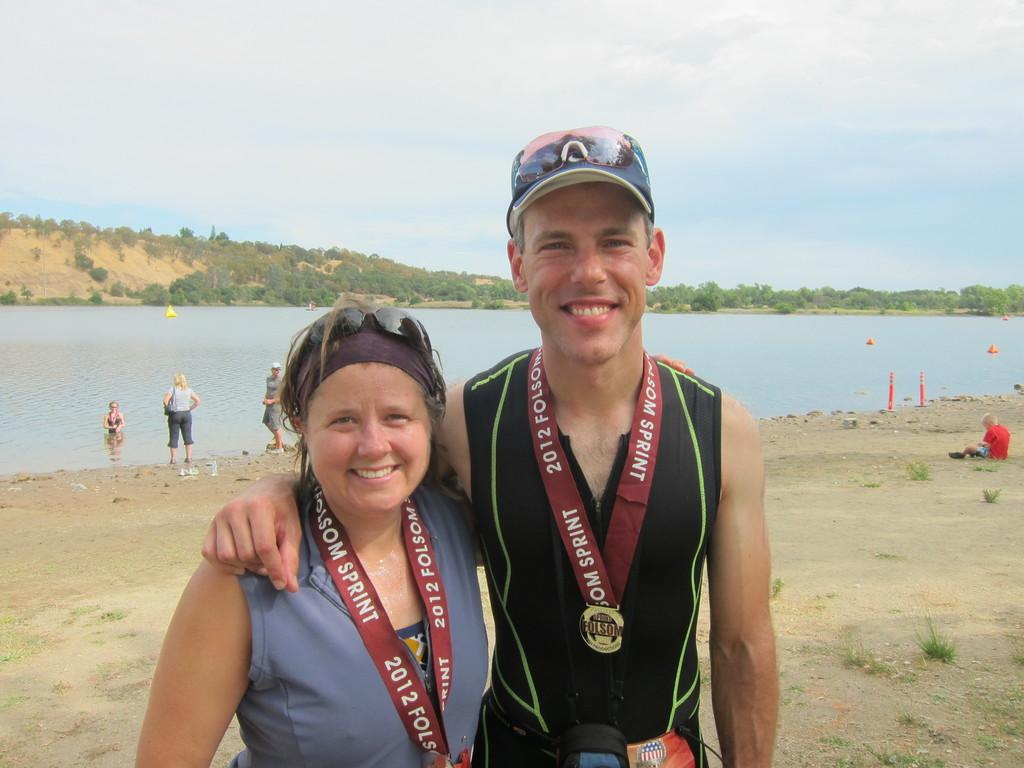Hat: (508, 129, 654, 244)
